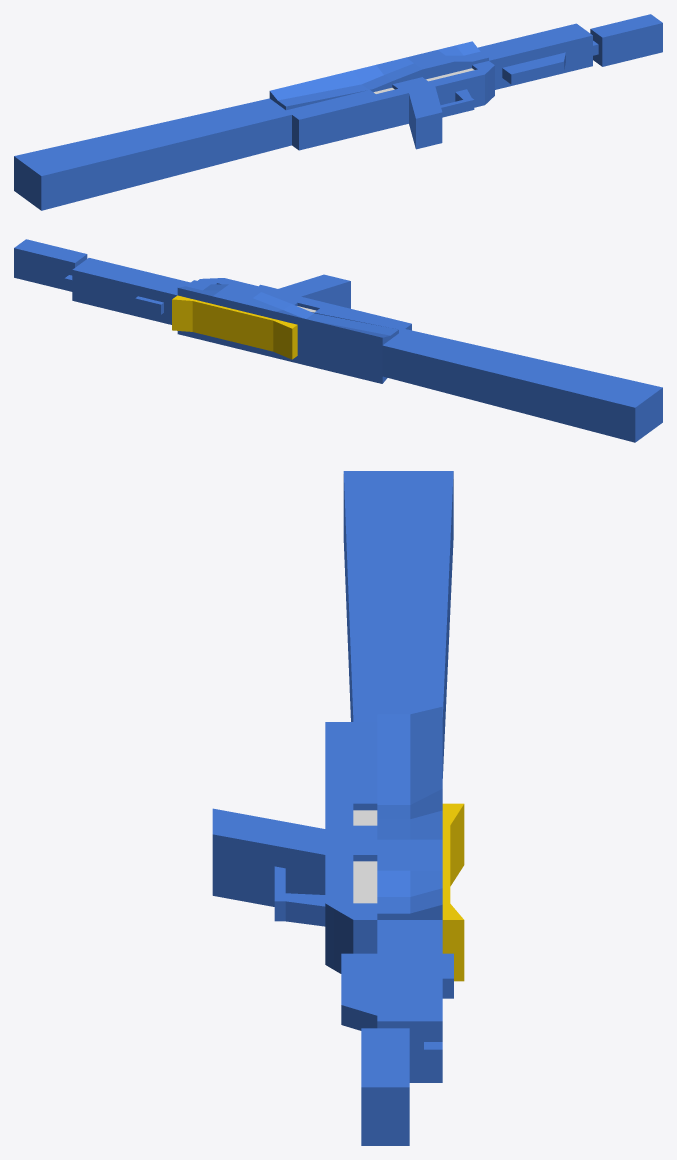
File: bazooka.fbx
3 views of the same model, one above another, from view 1: azimuth 30°, elevation 25°; view 2: azimuth 150°, elevation 25°; view 3: azimuth 270°, elevation 25° (orthographic). The views are drawn at different scales.
Parts seen in each view (by area): view 1: Cube; view 2: Cube; view 3: Cube.
Boxes of the visible parts, x1,y1,x2,y2 form: Cube: (14, 14, 662, 210); Cube: (14, 239, 662, 442); Cube: (212, 471, 464, 1145).
Size of the model in its own units: 555 by 38.92 by 96.63.
